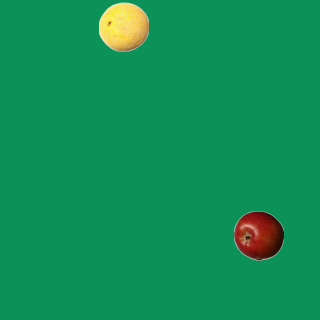Apple Braeburn: (233, 210, 283, 260)
Cantaloupe 1: (98, 1, 148, 51)
